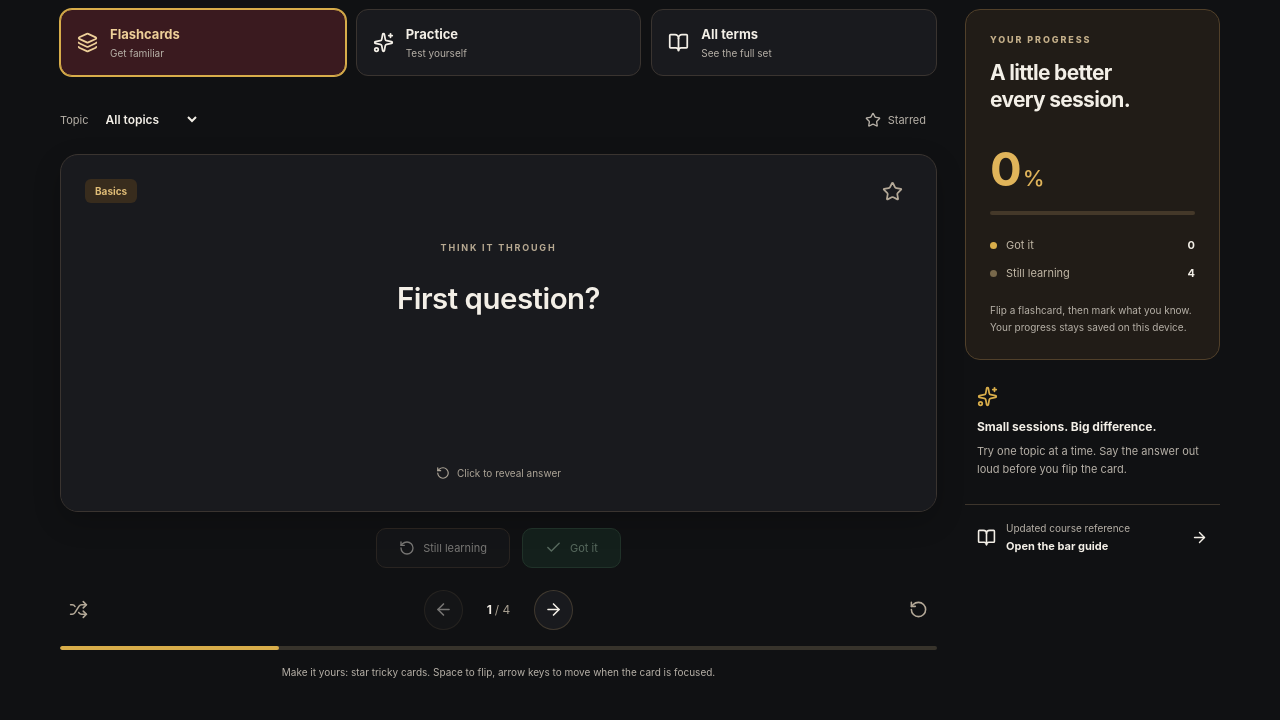
Test: flip, keyboard navigation, and knowledge tracking persist
The image size is (1280, 720).
(page scrolled)
Click the button with aria-label "Show answer" at (498, 360), box [61,210,936,510]
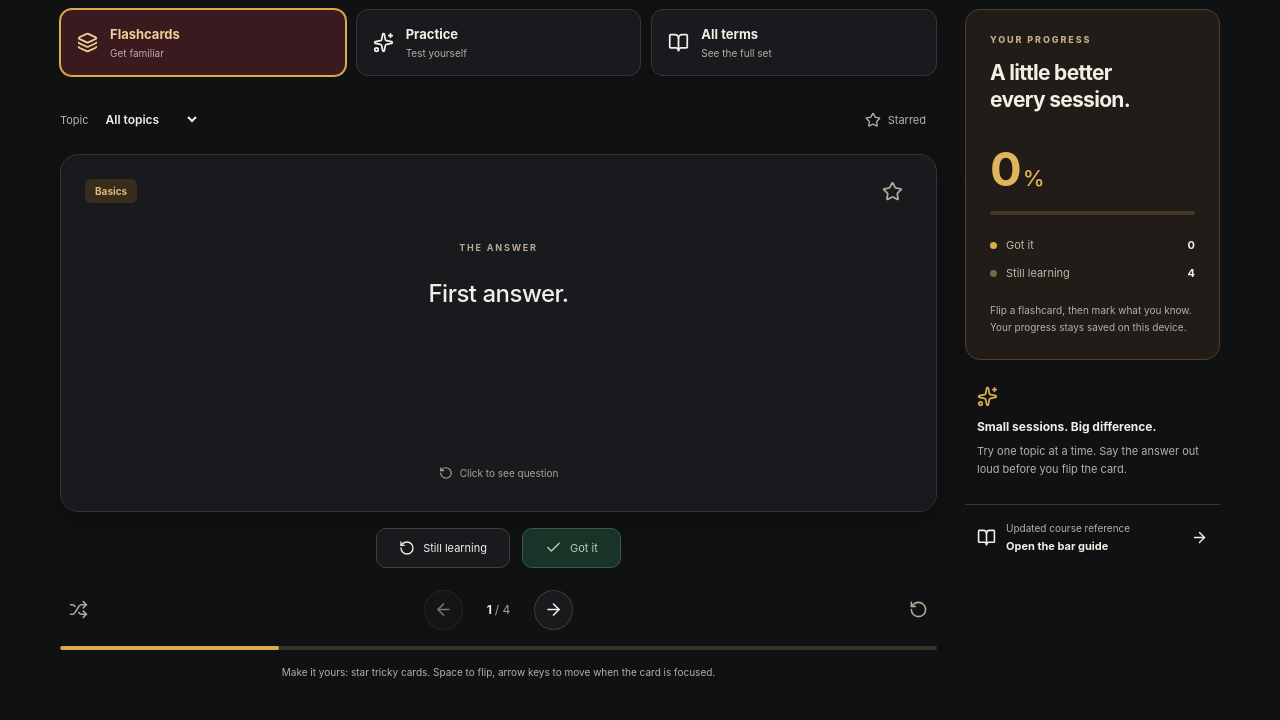
Check: the text "First answer." is shown, box [428,276,568,311]
Click the button "Got it" at (571, 548), box [522,528,621,568]
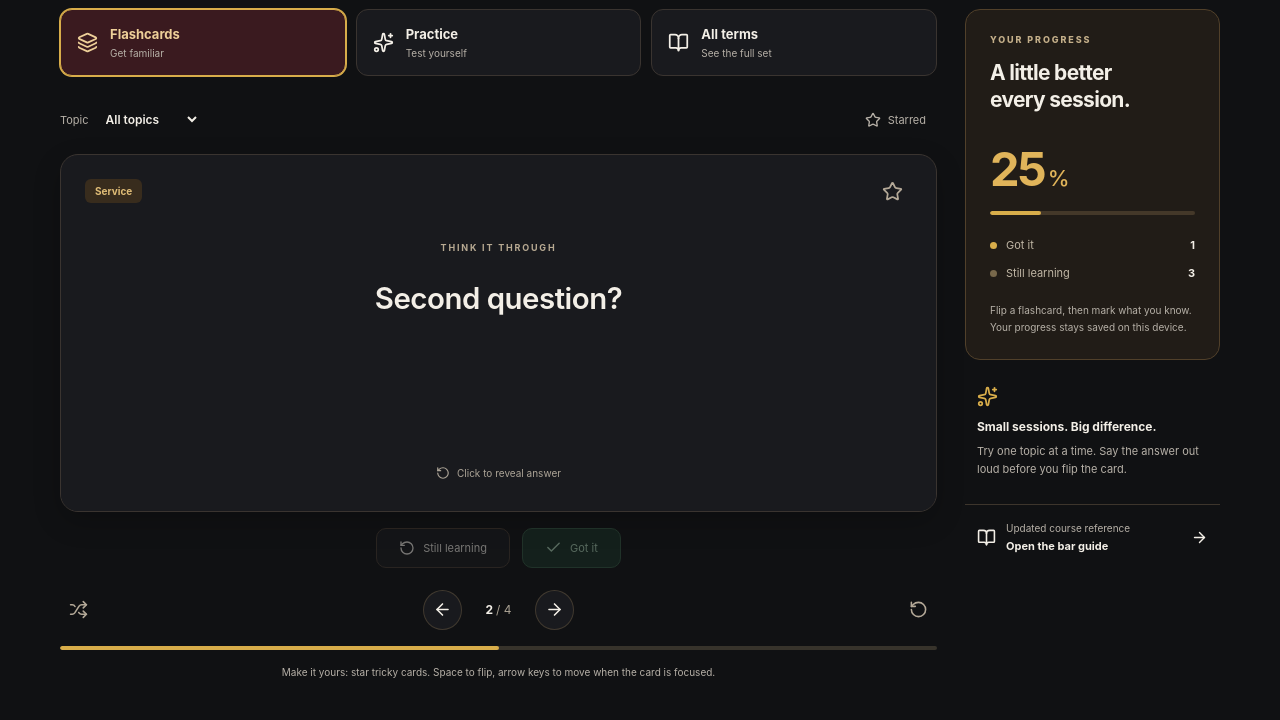
Check: the text "Second question?" is shown, box [375,276,622,319]
Press ArrowRight in the button with aria-label "Show answer", box [61,210,936,510]
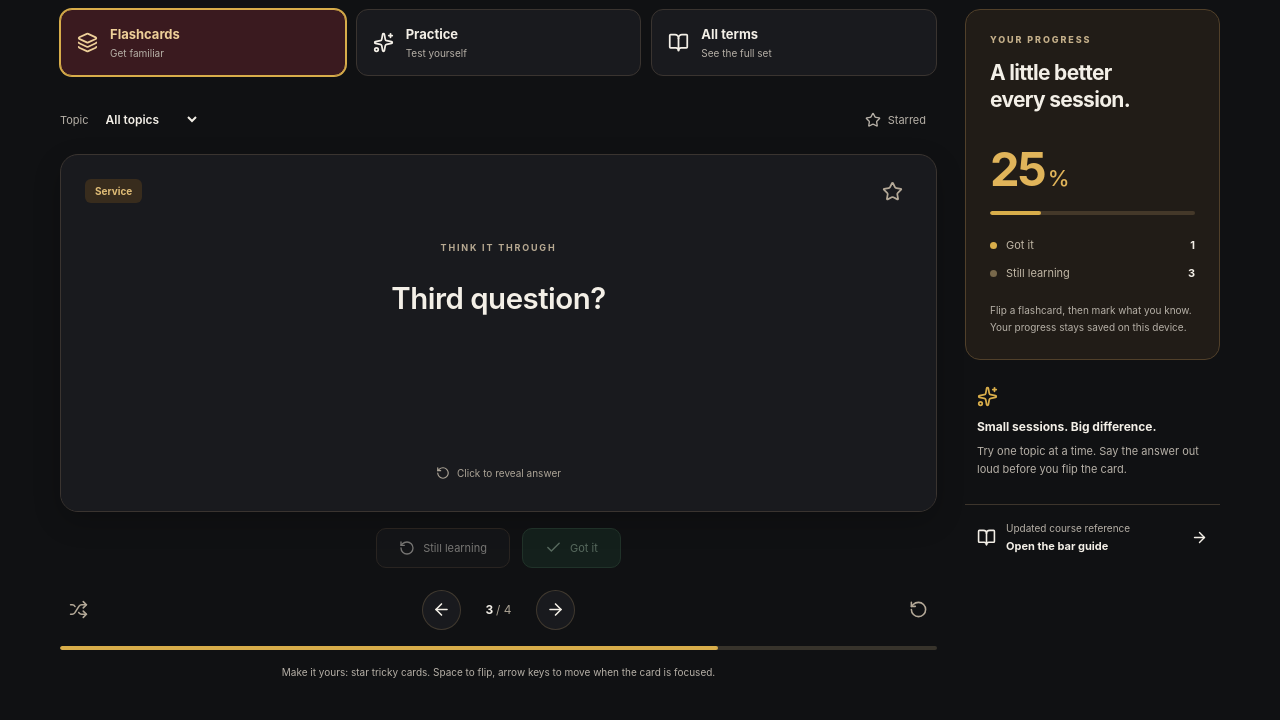
Check: the text "Third question?" is shown, box [391,276,606,319]
